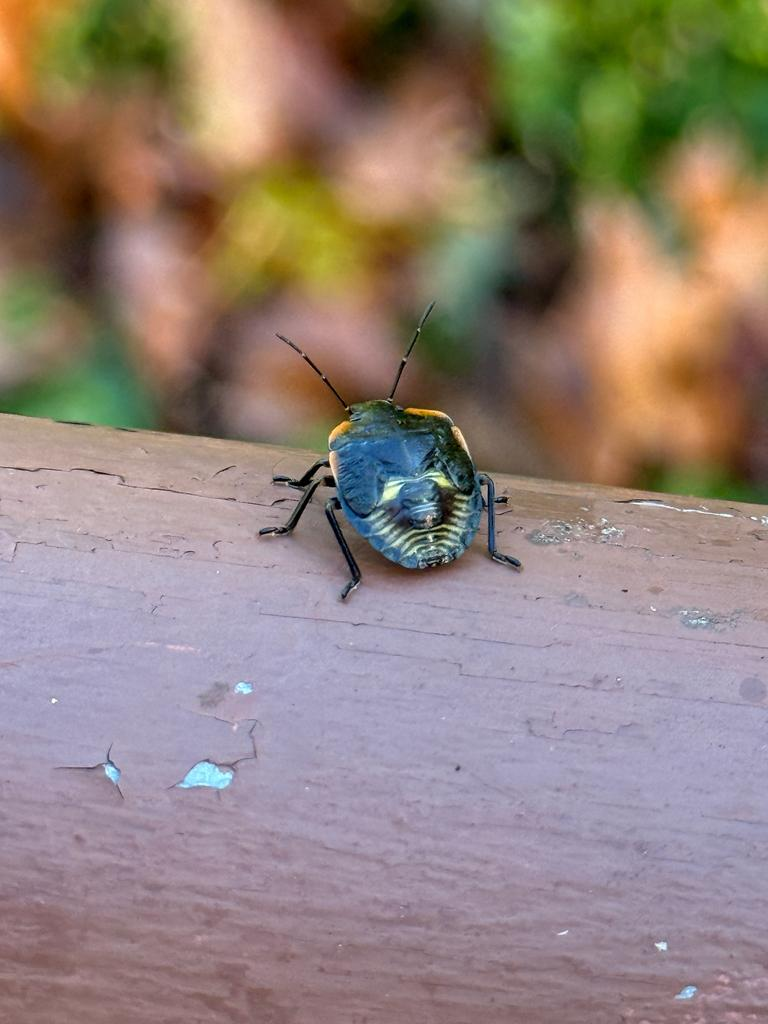stink_bugs: (175, 205, 596, 670)
